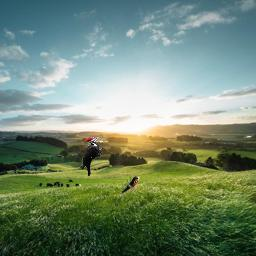Swallow: (120, 176, 140, 194)
Woodpecker: (82, 136, 103, 176)
